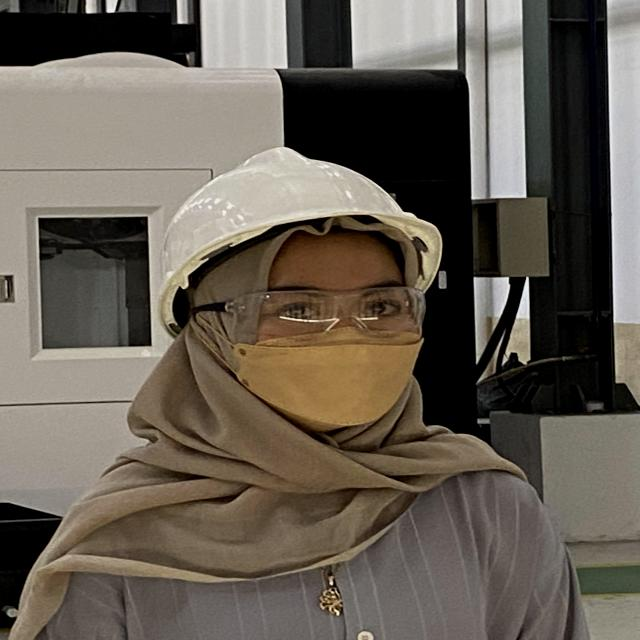face_mask: (226, 274, 433, 429)
glasses: (189, 279, 435, 341)
head_helmet: (146, 142, 450, 317)
